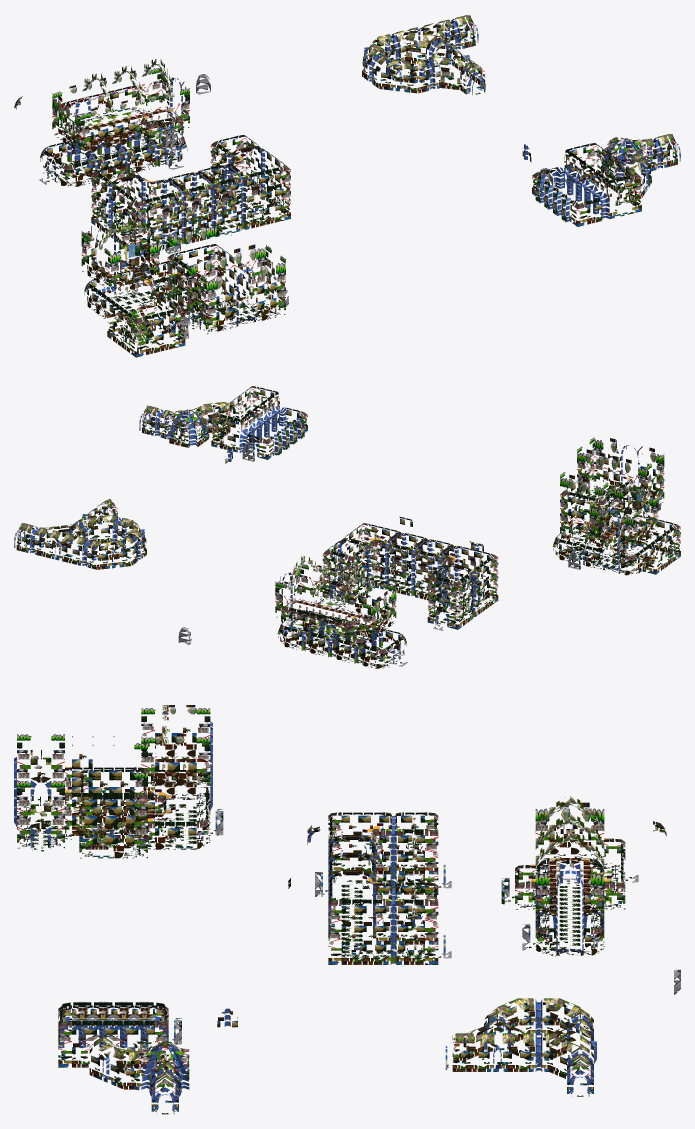
3 renders of one model, top to bottom at view 1: azimuth 30°, elevation 25°; view 2: azimuth 150°, elevation 25°; view 3: azimuth 270°, elevation 25°, orthographic. The views are drawn at different scales.
Size of the model in its own units: 155 by 26.19 by 129.
